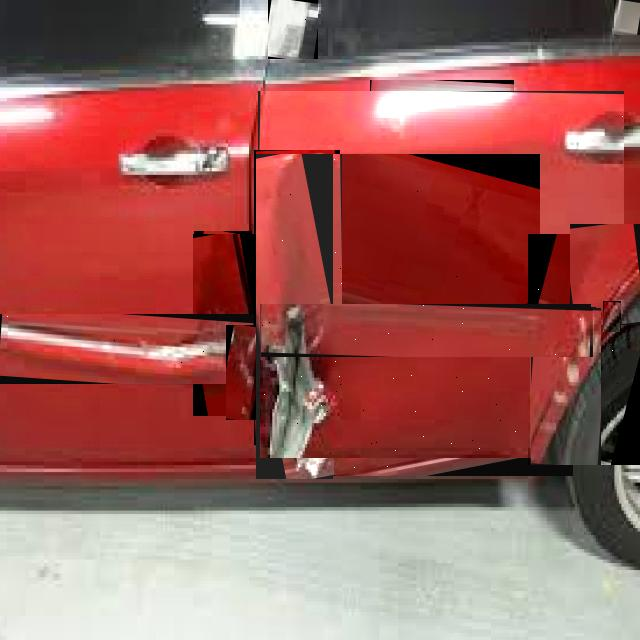Dent: (258, 97, 571, 318), (258, 154, 527, 362), (263, 154, 523, 324), (263, 304, 521, 475), (302, 305, 536, 419), (531, 225, 639, 457), (256, 154, 332, 478), (256, 150, 333, 419), (254, 155, 339, 351), (0, 321, 250, 383), (528, 289, 639, 427), (300, 304, 538, 353), (531, 310, 600, 462), (279, 154, 339, 317), (268, 313, 327, 469), (0, 333, 227, 373), (193, 234, 255, 380), (370, 80, 513, 137), (574, 224, 638, 324), (194, 236, 251, 335), (309, 304, 537, 328), (254, 316, 285, 444), (555, 307, 590, 402), (558, 307, 594, 388), (229, 325, 258, 419), (268, 0, 309, 58), (226, 327, 255, 387), (547, 354, 574, 408), (614, 0, 639, 34), (237, 330, 253, 383), (258, 328, 284, 359), (307, 315, 324, 355), (577, 312, 592, 356), (603, 302, 620, 331), (558, 358, 574, 387), (549, 391, 564, 402)
